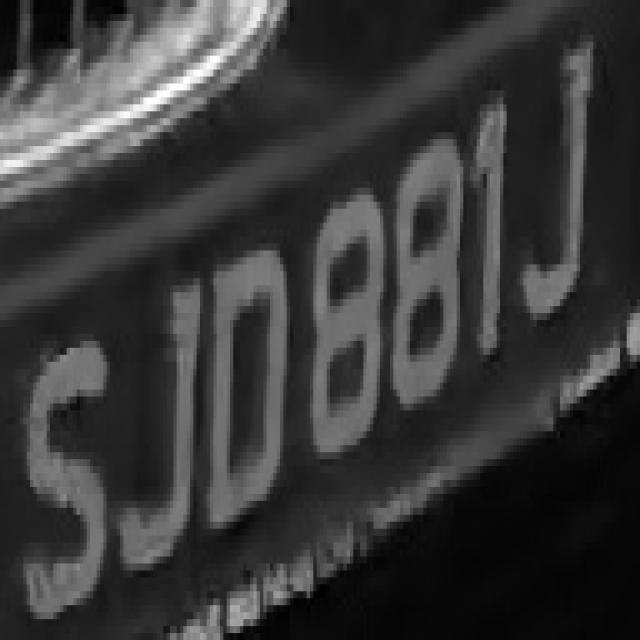1: (470, 70, 517, 397)
8: (386, 104, 466, 424), (307, 167, 390, 473)
D: (197, 230, 293, 536)
J: (110, 250, 207, 570), (517, 49, 600, 334)
S: (10, 306, 113, 640)
